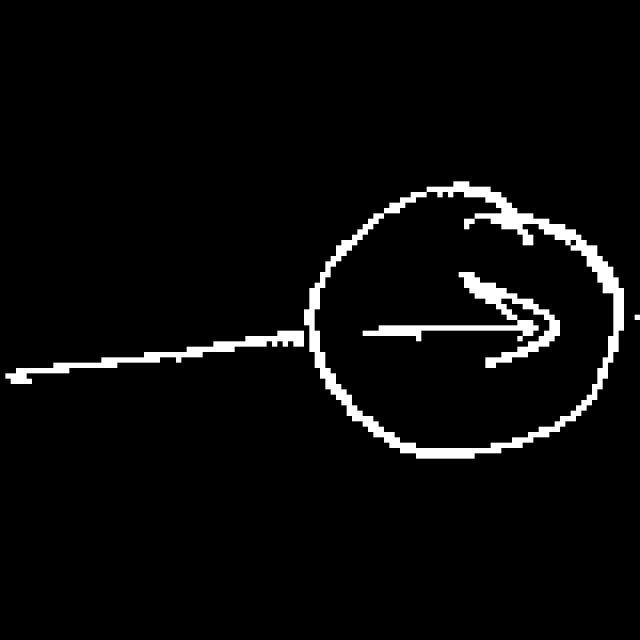current_source: (293, 163, 630, 476)
